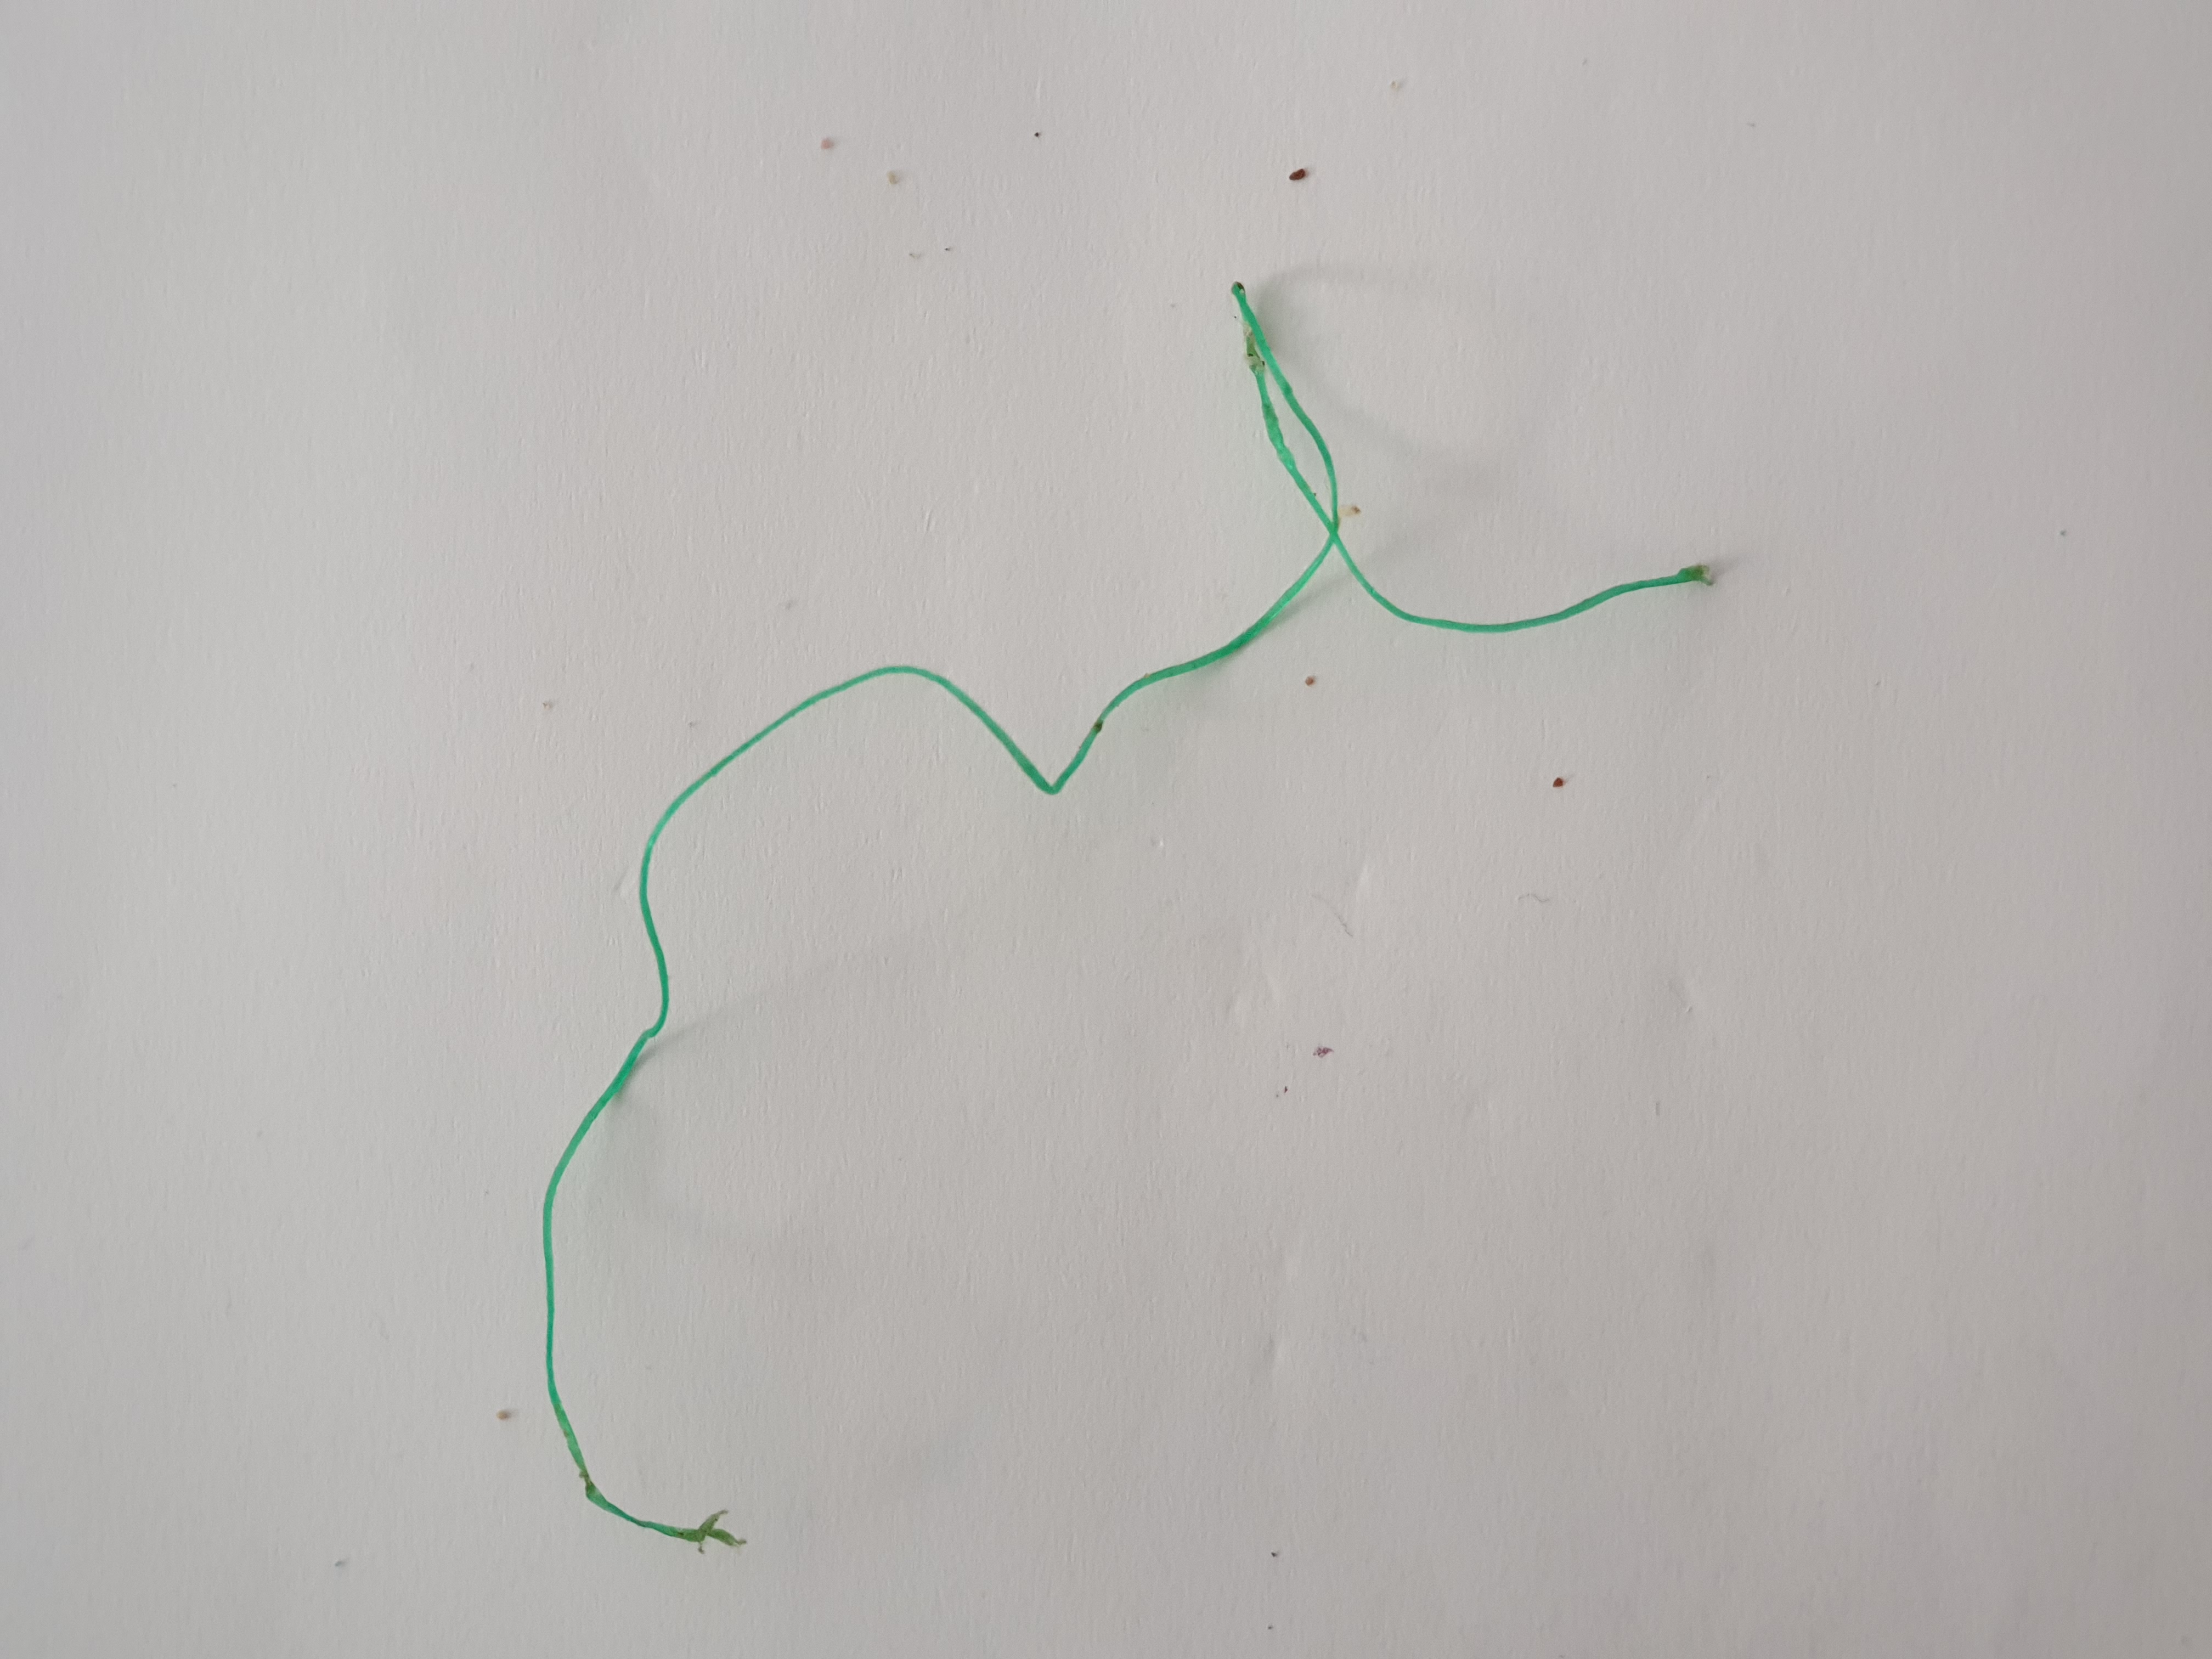thread: (523, 254, 1737, 1575)
